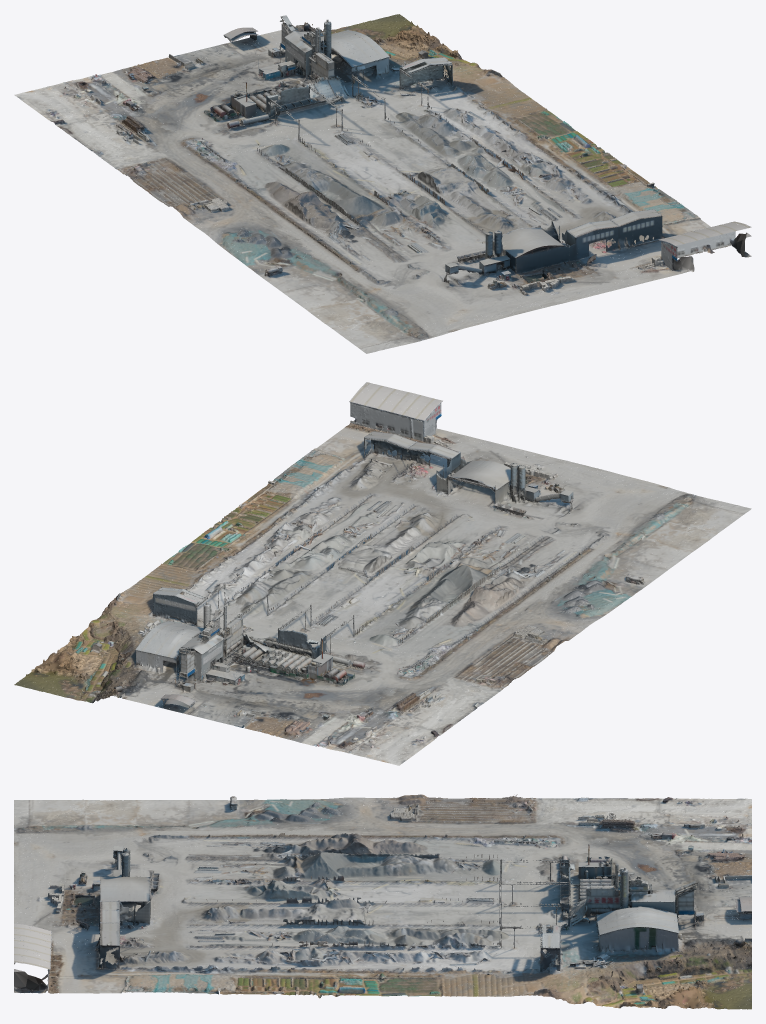
The picture shows the model from 3 angles, top to bottom: view 1: azimuth 30°, elevation 25°; view 2: azimuth 150°, elevation 25°; view 3: azimuth 270°, elevation 25°; orthographic projection. The views are drawn at different scales.
Visible parts, largest first — view 1: Object_3, Object_7, Object_4, Object_6, Object_13, Object_10, Object_8, Object_9, Object_11, Object_5, Object_12, Object_14; view 2: Object_3, Object_7, Object_10, Object_4, Object_13, Object_6, Object_8, Object_12, Object_5, Object_9, Object_11, Object_14; view 3: Object_3, Object_10, Object_4, Object_13, Object_7, Object_6, Object_12, Object_8, Object_9, Object_5, Object_11, Object_14.
Boxes of the visible parts, x1=… form: Object_3: x1=14, y1=14, x2=751, y2=353; Object_7: x1=148, y1=28, x2=749, y2=278; Object_4: x1=28, y1=22, x2=678, y2=347; Object_6: x1=159, y1=35, x2=601, y2=309; Object_13: x1=268, y1=22, x2=678, y2=334; Object_10: x1=133, y1=16, x2=751, y2=237; Object_8: x1=114, y1=59, x2=657, y2=278; Object_9: x1=183, y1=15, x2=571, y2=209; Object_11: x1=53, y1=36, x2=593, y2=298; Object_5: x1=62, y1=30, x2=672, y2=292; Object_12: x1=95, y1=15, x2=739, y2=259; Object_14: x1=16, y1=39, x2=629, y2=240; Object_3: x1=14, y1=382, x2=751, y2=765; Object_7: x1=143, y1=383, x2=605, y2=713; Object_10: x1=77, y1=495, x2=400, y2=735; Object_4: x1=41, y1=467, x2=737, y2=755; Object_13: x1=160, y1=460, x2=698, y2=693; Object_6: x1=140, y1=449, x2=604, y2=719; Object_8: x1=170, y1=436, x2=532, y2=730; Object_12: x1=18, y1=416, x2=468, y2=745; Object_5: x1=100, y1=431, x2=513, y2=729; Object_9: x1=180, y1=516, x2=501, y2=681; Object_11: x1=26, y1=458, x2=569, y2=743; Object_14: x1=161, y1=470, x2=521, y2=765; Object_3: x1=14, y1=794, x2=751, y2=1009; Object_10: x1=14, y1=854, x2=750, y2=1008; Object_4: x1=14, y1=796, x2=751, y2=1008; Object_13: x1=43, y1=819, x2=708, y2=993; Object_7: x1=14, y1=812, x2=751, y2=995; Object_6: x1=14, y1=796, x2=749, y2=974; Object_12: x1=39, y1=861, x2=751, y2=1008; Object_8: x1=48, y1=795, x2=709, y2=970; Object_9: x1=256, y1=837, x2=697, y2=970; Object_5: x1=16, y1=797, x2=709, y2=1002; Object_11: x1=48, y1=841, x2=750, y2=1006; Object_14: x1=152, y1=798, x2=751, y2=969.
Size of the model in its own units: 180 by 31.84 by 285.
Materials: 1 (1 with a texture image).
